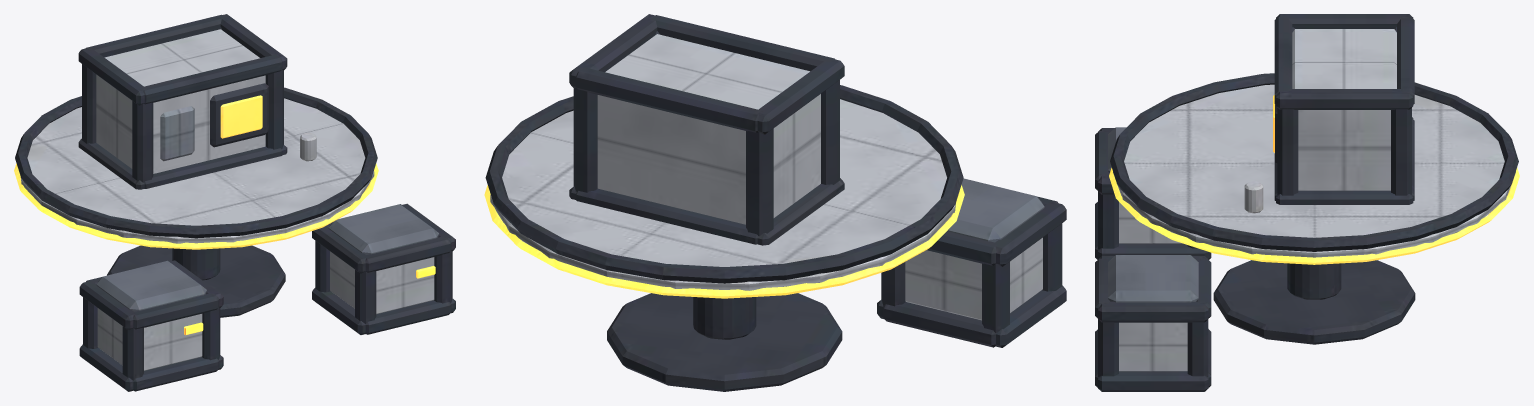
File: galley-table.glb
3 renders of one model, left to right at view 1: azimuth 30°, elevation 25°; view 2: azimuth 150°, elevation 25°; view 3: azimuth 270°, elevation 25°, orthographic. The views are drawn at different scales.
Visible parts, largest first — view 1: Tabletop, FoodModuleFrame, FoodModuleBody, Stool0Frame, Stool1Frame, TableLip, PedestalFoot, Stool0Body, Stool1Body, StoolCushion0, StoolCushion1, TableBand (+5 smaller); view 2: Tabletop, FoodModuleBody, FoodModuleFrame, PedestalFoot, TableLip, Stool0Frame, Stool0Body, TableBand, StoolCushion0, Pedestal; view 3: Tabletop, FoodModuleBody, FoodModuleFrame, PedestalFoot, TableLip, Stool1Frame, StoolCushion1, Stool1Body, Stool0Frame, TableBand, Pedestal, Stool0Body (+1 smaller).
Part boxes in pixels (bbox=[...]): Tabletop: bbox=[20, 98, 374, 243]; FoodModuleFrame: bbox=[78, 14, 287, 189]; FoodModuleBody: bbox=[96, 29, 265, 173]; Stool0Frame: bbox=[79, 260, 223, 391]; Stool1Frame: bbox=[312, 203, 455, 334]; TableLip: bbox=[15, 87, 377, 238]; PedestalFoot: bbox=[107, 245, 285, 317]; Stool0Body: bbox=[97, 308, 202, 370]; Stool1Body: bbox=[330, 251, 434, 314]; StoolCushion0: bbox=[96, 260, 206, 311]; StoolCushion1: bbox=[328, 204, 439, 254]; TableBand: bbox=[14, 163, 378, 249]; Tabletop: bbox=[490, 99, 955, 290]; FoodModuleBody: bbox=[597, 34, 820, 224]; FoodModuleFrame: bbox=[569, 14, 844, 245]; PedestalFoot: bbox=[607, 293, 842, 391]; TableLip: bbox=[485, 85, 963, 283]; Stool0Frame: bbox=[877, 196, 1066, 347]; Stool0Body: bbox=[905, 237, 1042, 320]; TableBand: bbox=[484, 185, 964, 298]; StoolCushion0: bbox=[947, 178, 1044, 242]; Pedestal: bbox=[693, 297, 756, 339]; Tabletop: bbox=[1113, 84, 1515, 257]; FoodModuleBody: bbox=[1292, 29, 1396, 190]; FoodModuleFrame: bbox=[1274, 14, 1414, 204]; PedestalFoot: bbox=[1213, 260, 1415, 344]; TableLip: bbox=[1110, 73, 1518, 251]; Stool1Frame: bbox=[1095, 256, 1211, 391]; StoolCushion1: bbox=[1108, 255, 1198, 302]; Stool1Body: bbox=[1119, 322, 1187, 371]; Stool0Frame: bbox=[1095, 128, 1211, 259]; TableBand: bbox=[1109, 167, 1519, 264]; Pedestal: bbox=[1287, 263, 1341, 299]; Stool0Body: bbox=[1119, 202, 1182, 243].
Bounding box in the file's own units: 2.14 × 1.37 × 2.11.
Materials: 7 (7 with a texture image).
